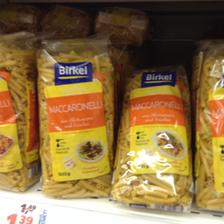Nudeln: (34, 37, 114, 195), (110, 63, 194, 208), (189, 41, 223, 211), (0, 32, 36, 190)
